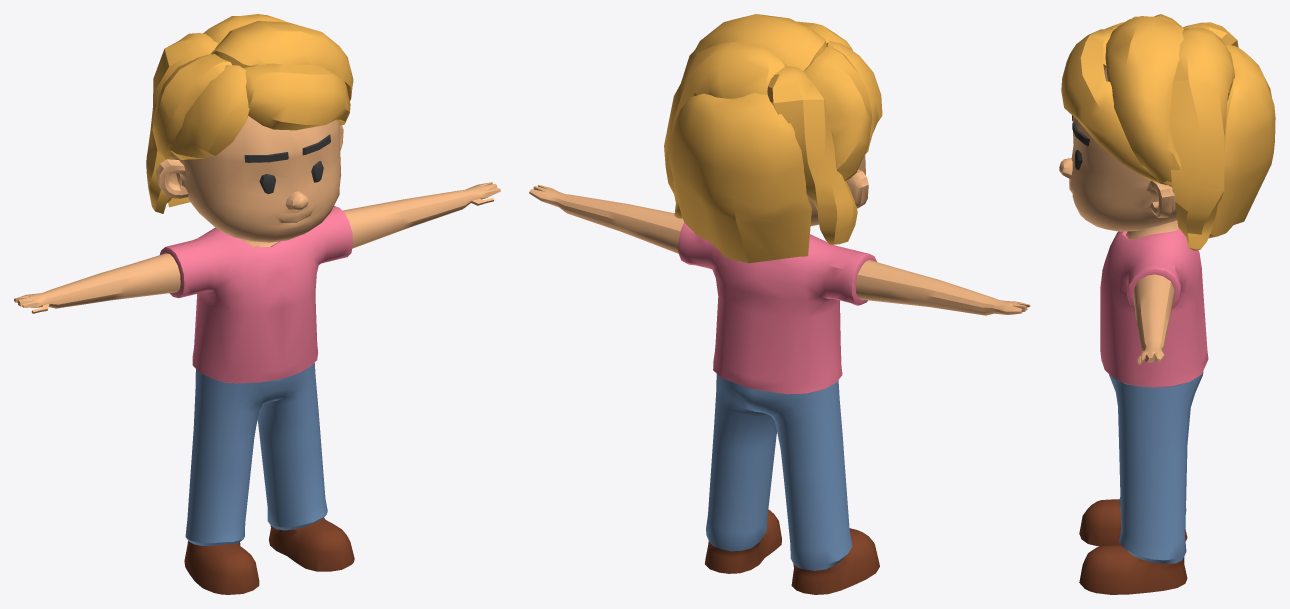
Rendered from mohammed_sarah.fbx.
3 views of the same model, side by side, from view 1: azimuth 30°, elevation 25°; view 2: azimuth 150°, elevation 25°; view 3: azimuth 270°, elevation 25° (orthographic). The views are drawn at different scales.
Visible parts, largest first — view 1: body.003; view 2: body.003; view 3: body.003.
Boxes of the visible parts, <box> form: body.003: <box>14,14,500,594</box>; body.003: <box>529,14,1030,594</box>; body.003: <box>1059,14,1275,594</box>.
Size of the model in its own units: 113 by 119 by 43.47.
